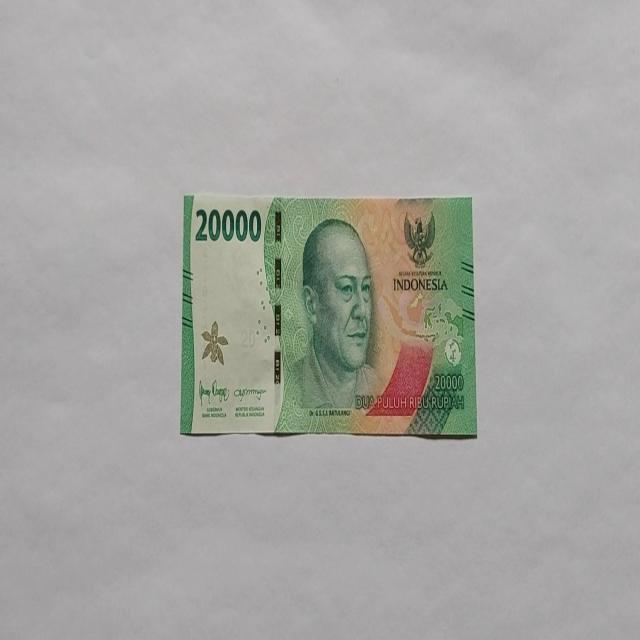dua puluh ribu rupiah: (179, 191, 477, 438), (275, 216, 385, 433)
